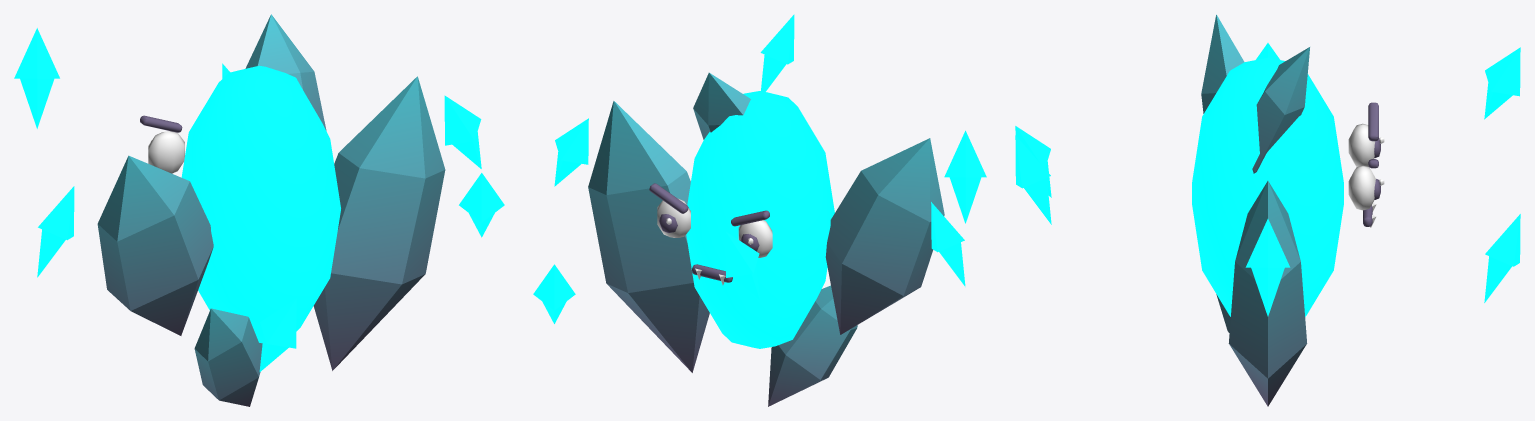
The model's file is art_x_rift.glb.
The picture shows the model from 3 angles, left to right: view 1: azimuth 30°, elevation 25°; view 2: azimuth 150°, elevation 25°; view 3: azimuth 270°, elevation 25°; orthographic projection. The views are drawn at different scales.
Parts seen in each view (by area): view 1: Body, Glow_00E5FF, Eye; view 2: Body, Glow_00E5FF, Eye, Mouth; view 3: Glow_00E5FF, Body, Eye.
Boxes of the visible parts, <box> form: Body: <box>97,14,445,406</box>; Glow_00E5FF: <box>14,28,504,371</box>; Eye: <box>140,115,184,173</box>; Body: <box>588,72,944,406</box>; Glow_00E5FF: <box>533,14,986,348</box>; Eye: <box>649,183,772,257</box>; Mouth: <box>692,264,732,285</box>; Glow_00E5FF: <box>1015,43,1520,316</box>; Body: <box>1201,14,1309,406</box>; Eye: <box>1348,102,1384,210</box>.
Size of the model in its own units: 4 by 3.16 by 4.04.
